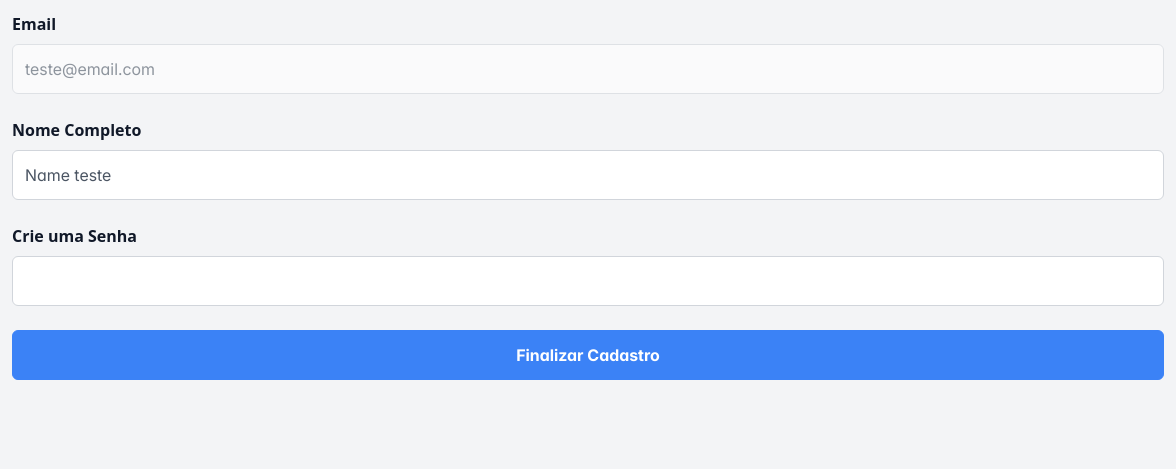
Scenario: JoinForm › mostra a mensagem de erro se a API falhar
The width and height of the screenshot is (1176, 469).
Type "agsistemas123" into the password field labelled "Crie uma Senha" at (588, 281), box [12,256,1164,306]
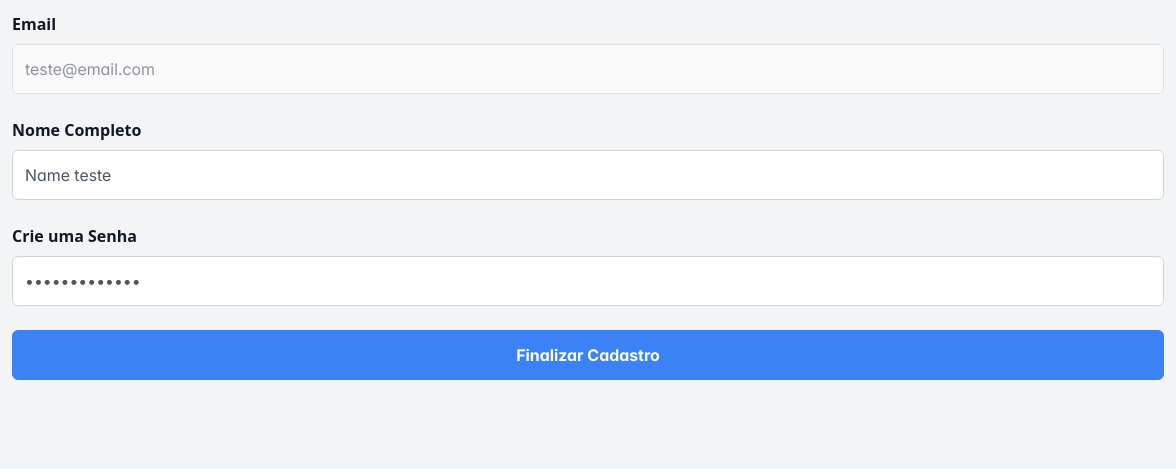
Submit the form with test id "join-form"
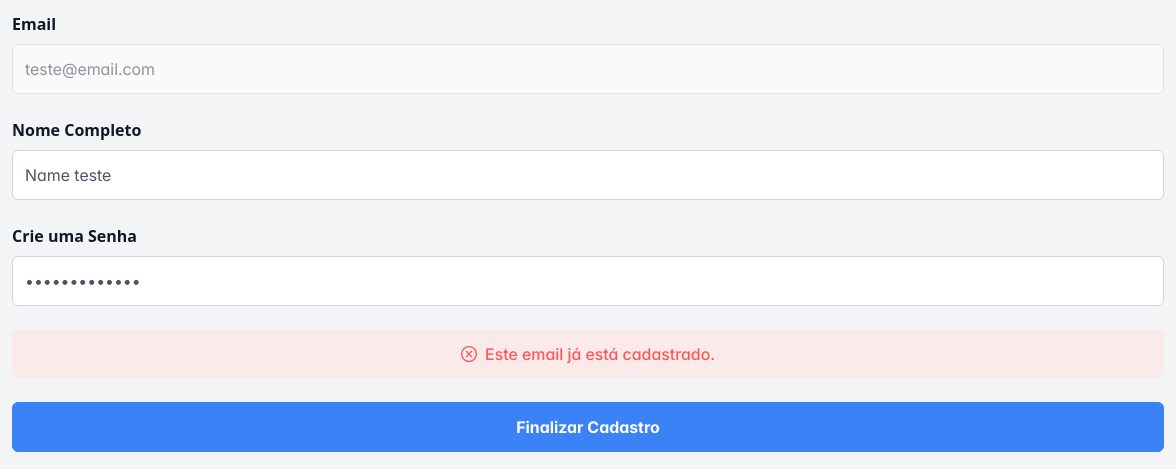
Result: the text "Este email já está cadastrado." is shown at [485,342,715,366]
